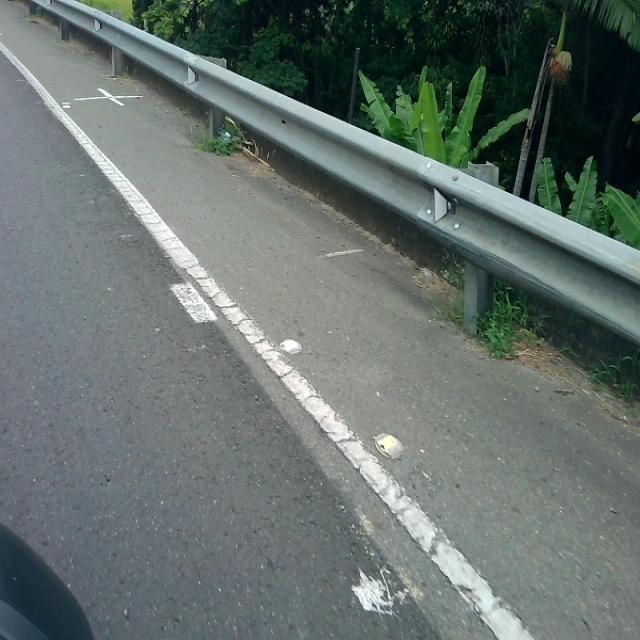DITCH: (1, 1, 638, 638), (1, 1, 636, 639)
